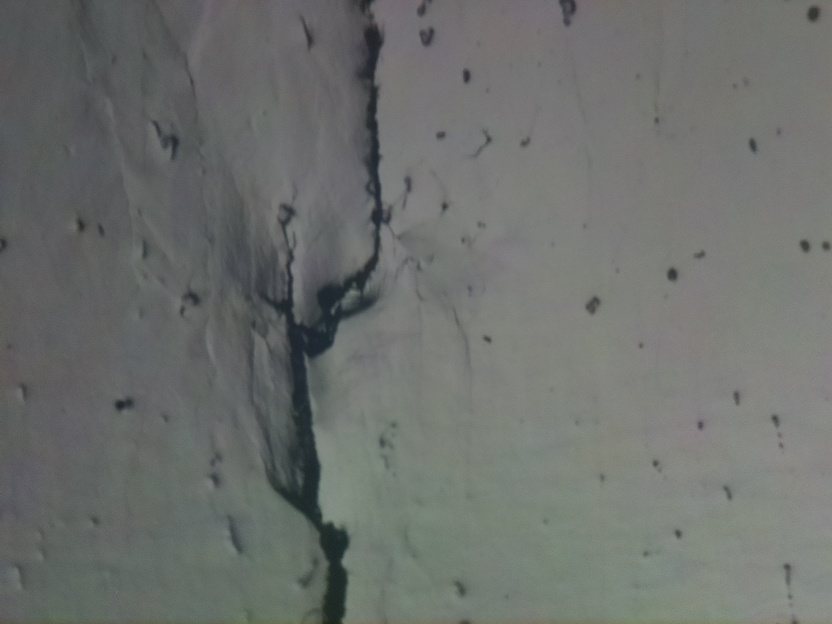crack: (279, 18, 386, 620)
